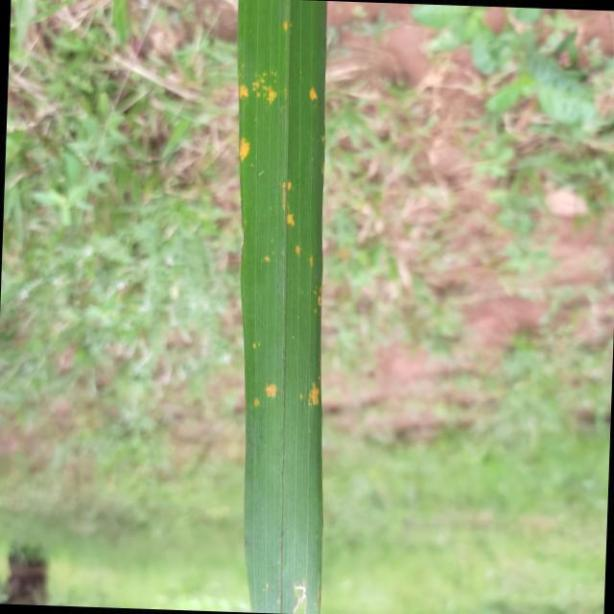Kalium: (238, 0, 322, 614)
